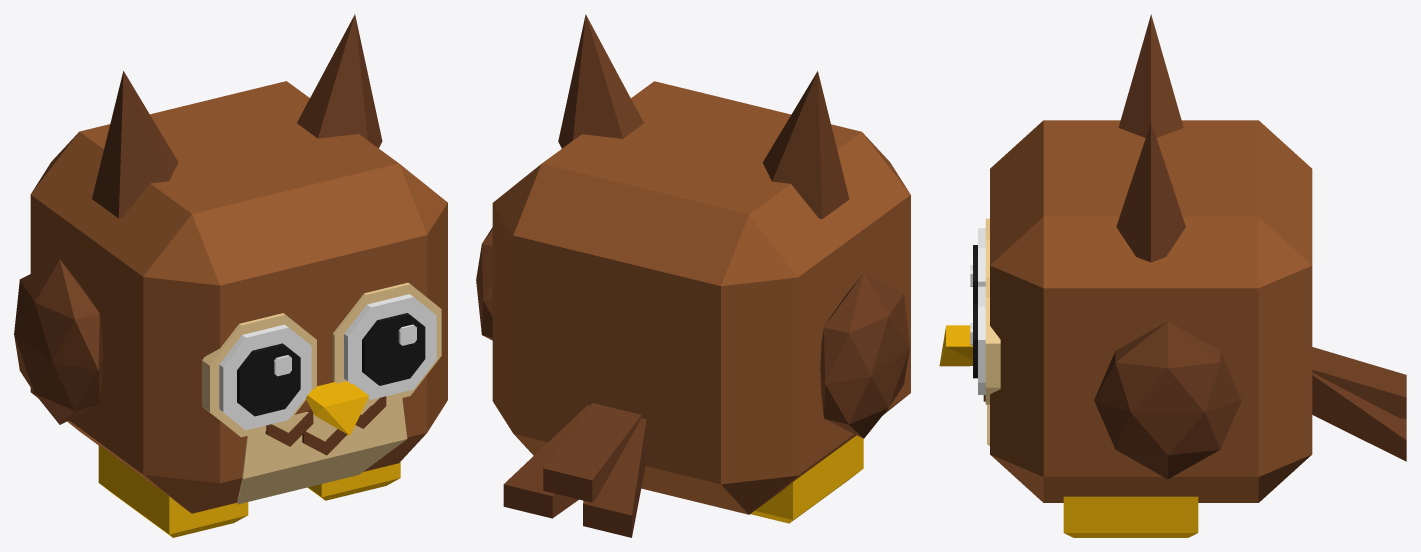
The model's file is Owl.fbx.
The picture shows the model from 3 angles, left to right: view 1: azimuth 30°, elevation 25°; view 2: azimuth 150°, elevation 25°; view 3: azimuth 270°, elevation 25°; orthographic projection. The views are drawn at different scales.
Parts seen in each view (by area): view 1: Owl, Owl_Dark, Owl_Cream, Owl_Eyes, Owl_Yellow, Owl_Pupils; view 2: Owl, Owl_Dark, Owl_Yellow; view 3: Owl, Owl_Dark, Owl_Yellow, Owl_Cream, Owl_Eyes, Owl_Pupils.
Boxes of the visible parts, bbox=[...] form: Owl: bbox=[30, 81, 447, 513]; Owl_Dark: bbox=[14, 14, 386, 455]; Owl_Cream: bbox=[202, 282, 441, 504]; Owl_Eyes: bbox=[219, 294, 436, 430]; Owl_Yellow: bbox=[98, 381, 400, 537]; Owl_Pupils: bbox=[237, 313, 425, 416]; Owl: bbox=[492, 81, 910, 514]; Owl_Dark: bbox=[476, 14, 909, 537]; Owl_Yellow: bbox=[750, 435, 863, 523]; Owl: bbox=[990, 120, 1312, 502]; Owl_Dark: bbox=[983, 14, 1406, 479]; Owl_Yellow: bbox=[939, 325, 1198, 537]; Owl_Cream: bbox=[985, 218, 1000, 445]; Owl_Eyes: bbox=[970, 228, 985, 394]; Owl_Pupils: bbox=[973, 245, 977, 378].
Bounding box in the file's own units: 2.59 × 2.76 × 2.78.
